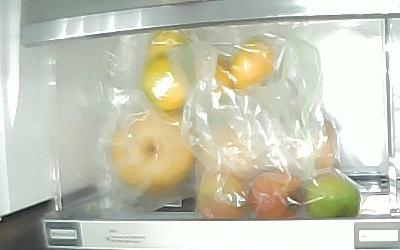pear_vinyl: (110, 109, 196, 192)
tangerine_vinyl: (214, 38, 272, 90), (141, 58, 188, 109), (147, 28, 189, 57)
tomato_vinyl: (196, 169, 248, 220), (250, 171, 305, 218), (303, 171, 359, 217)
